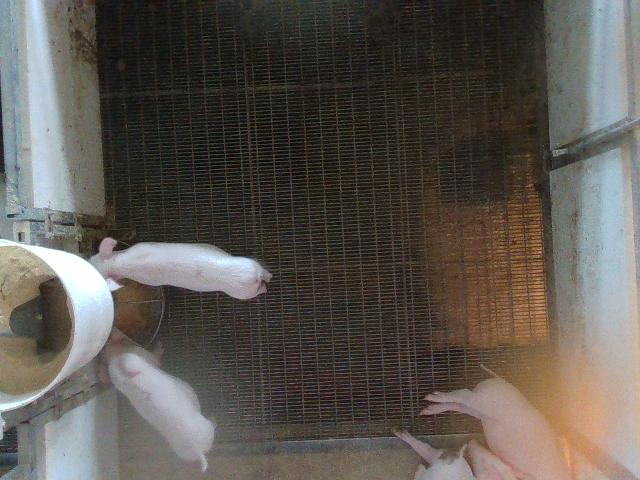pig-5: (100, 328, 214, 469)
